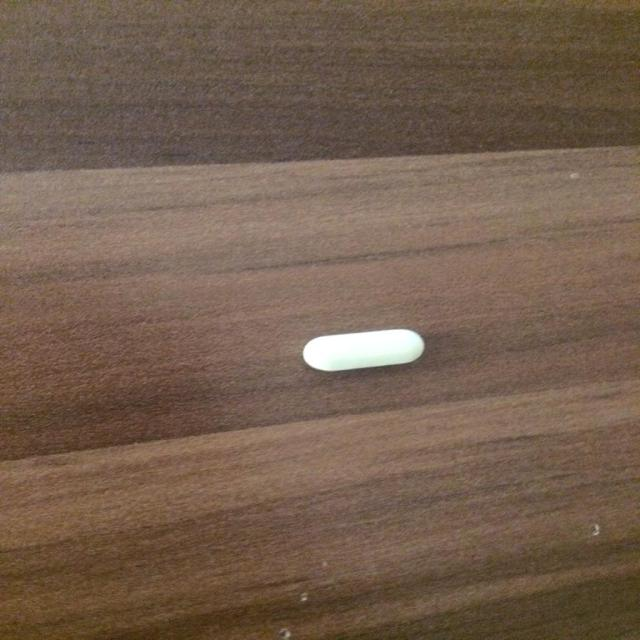pills: (287, 318, 449, 381)
